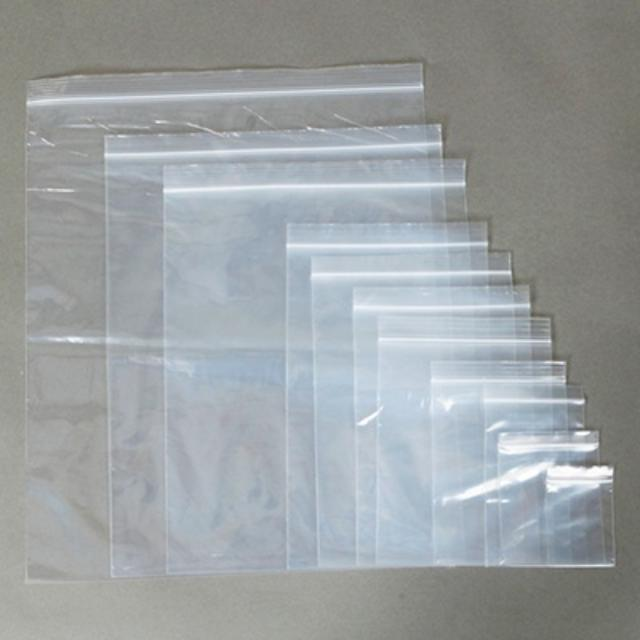plastic: (25, 64, 614, 578)
